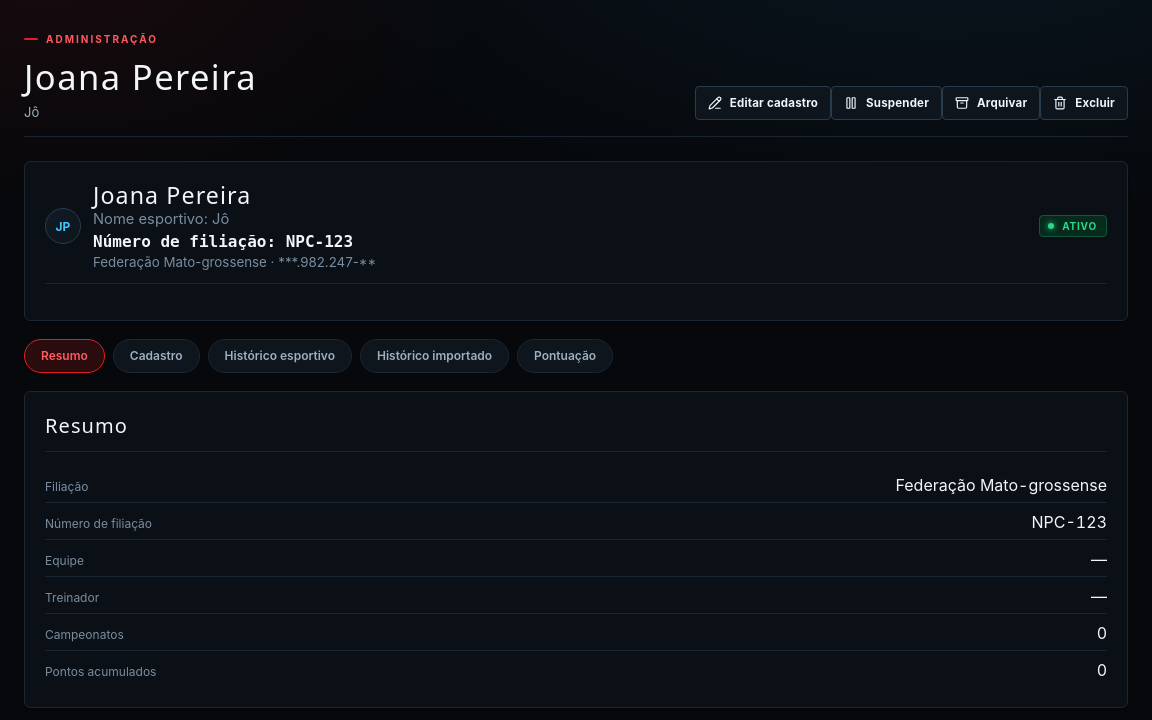
a edição manda só o que mudou, e nunca CPF nem equipe › o formulário não oferece campo de CPF nem de equipe
This screenshot has width=1152, height=720.
Click the button "Editar cadastro".
click(763, 103)  # box left=695, top=86, right=831, bottom=120
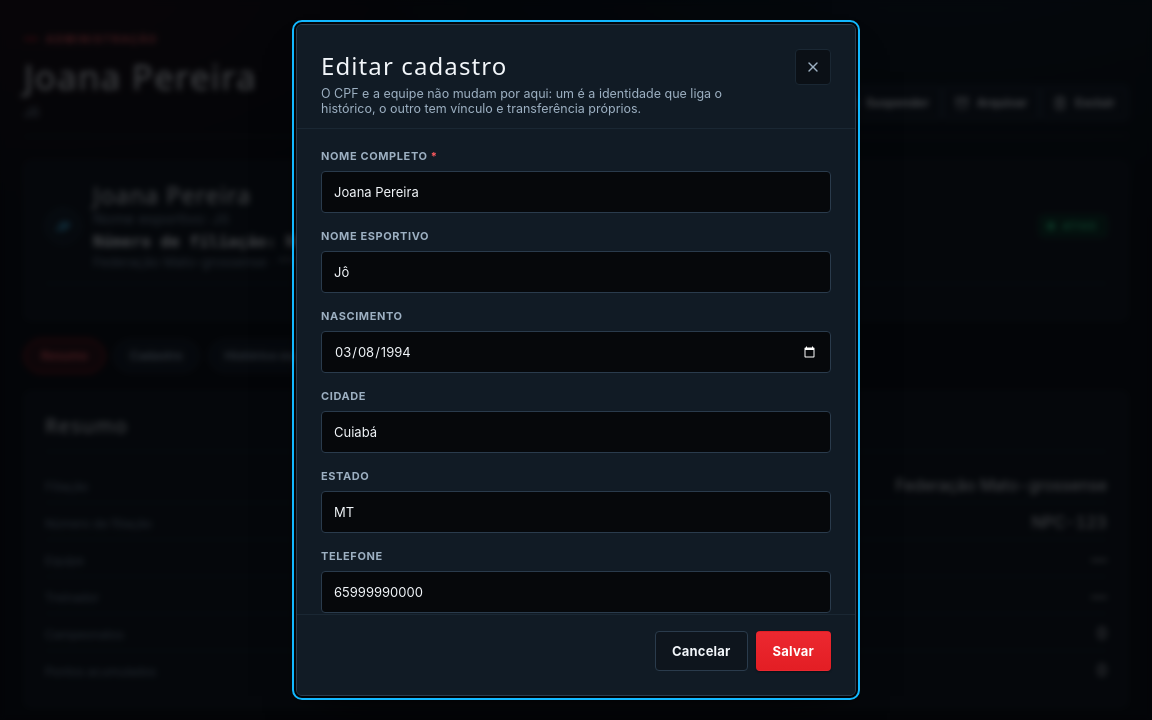
Expected: the field showing "Joana Pereira" does not show "equipe"
Expected: the field showing "Joana Pereira" is shown, left=321, top=171, right=831, bottom=213
